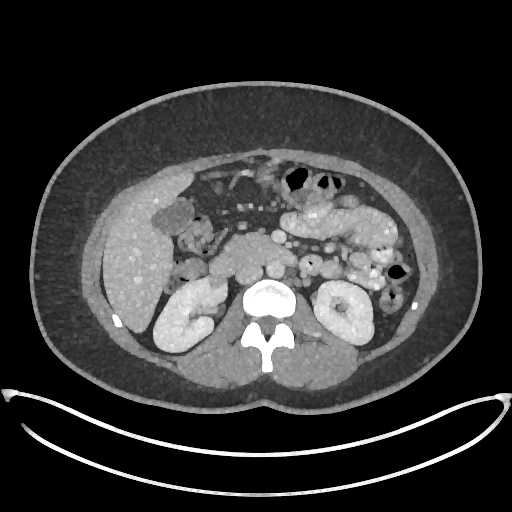Lesion: (204, 268, 229, 296)
